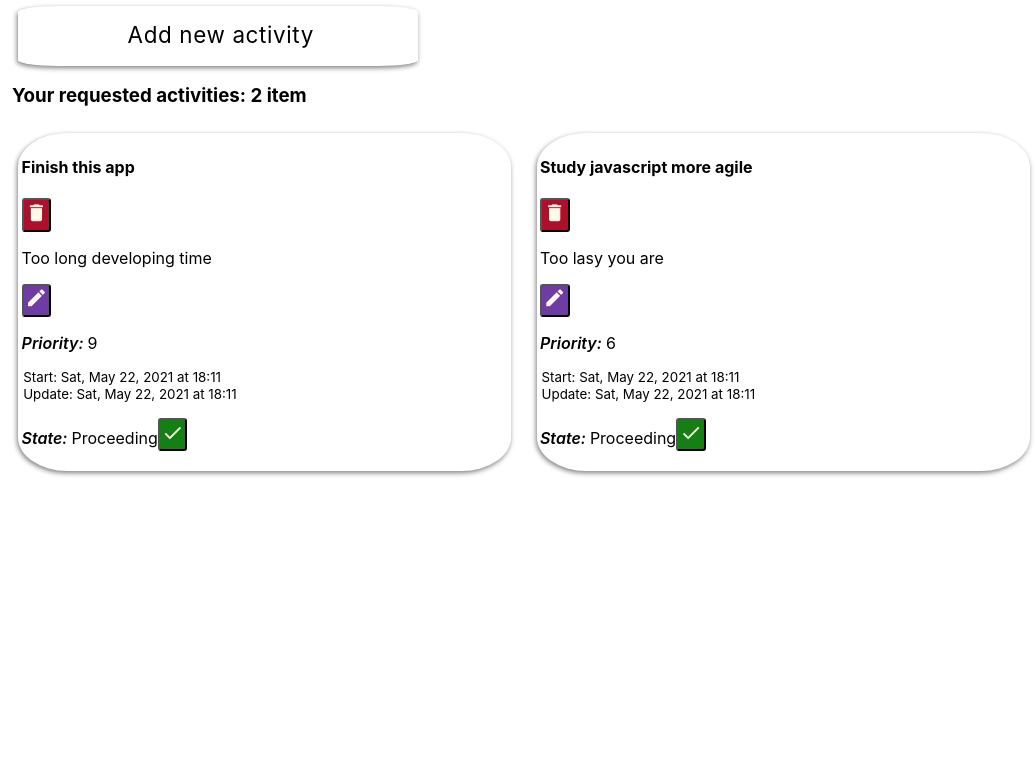
Todo list testing › Todo addition
Expected: the text "State:" is shown 2 times, [22, 428, 72, 448]; [540, 428, 590, 448]
Click the element showing "Add new activity" at (218, 36), box [123, 26, 314, 47]
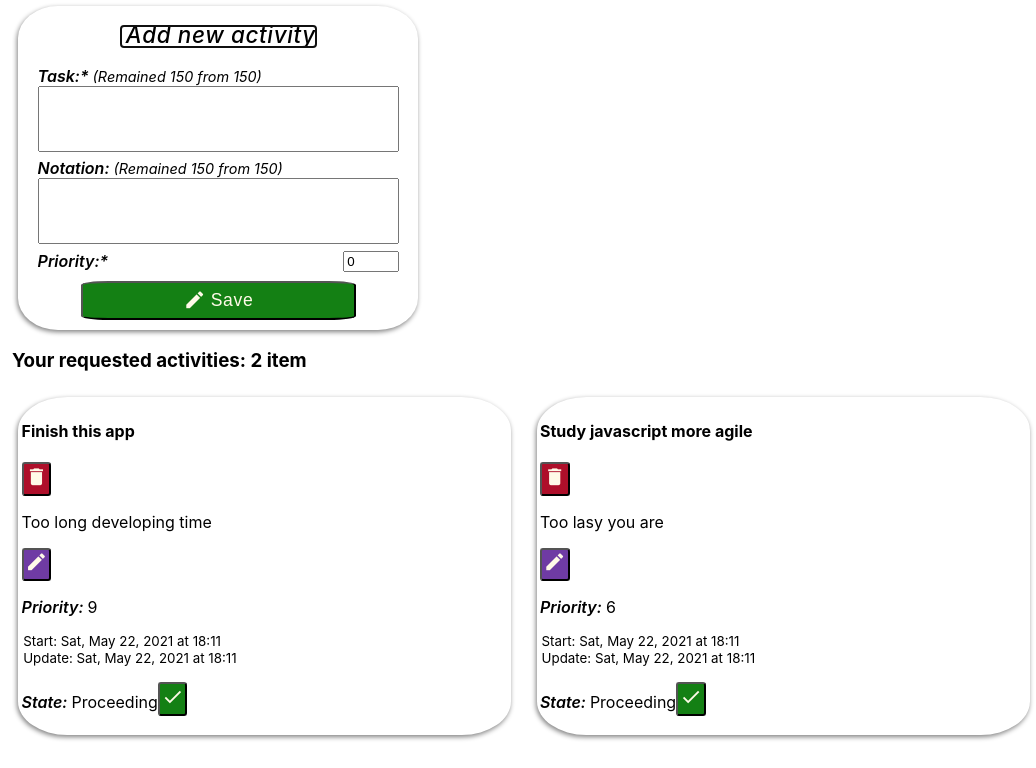
# fill the form,
Type "Finish the testing here!" into the text box labelled "Task:*" at (218, 119), box [38, 86, 399, 152]
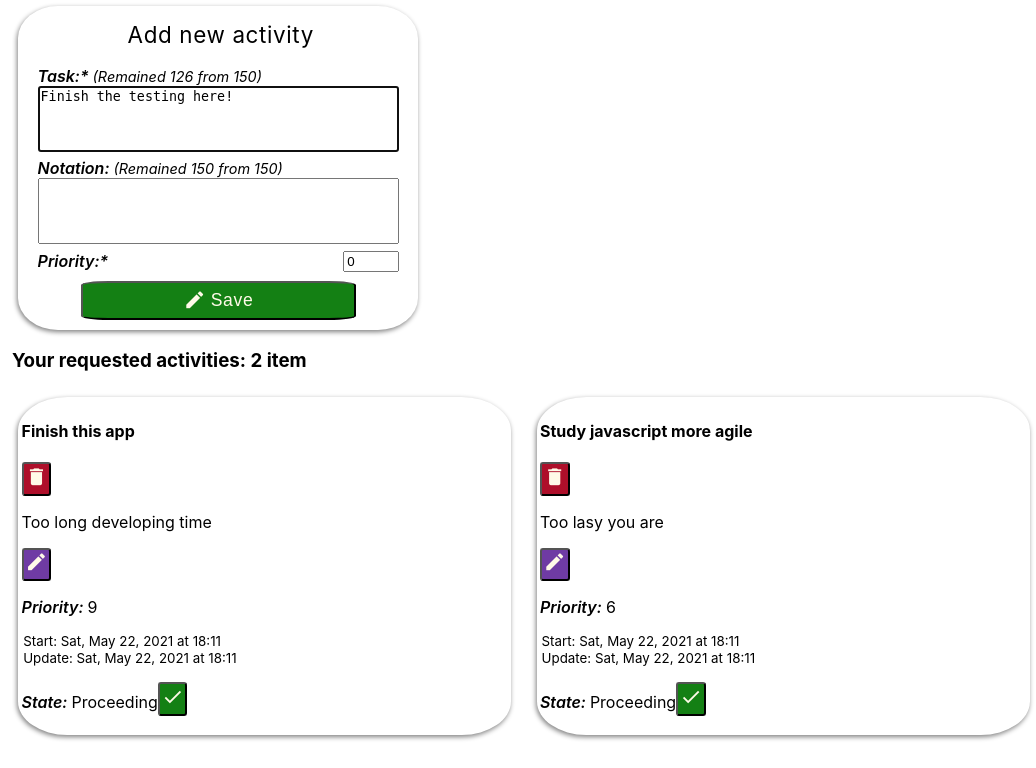
Type "6" into the number field labelled "Priority:*" at (371, 261), box [343, 250, 399, 272]
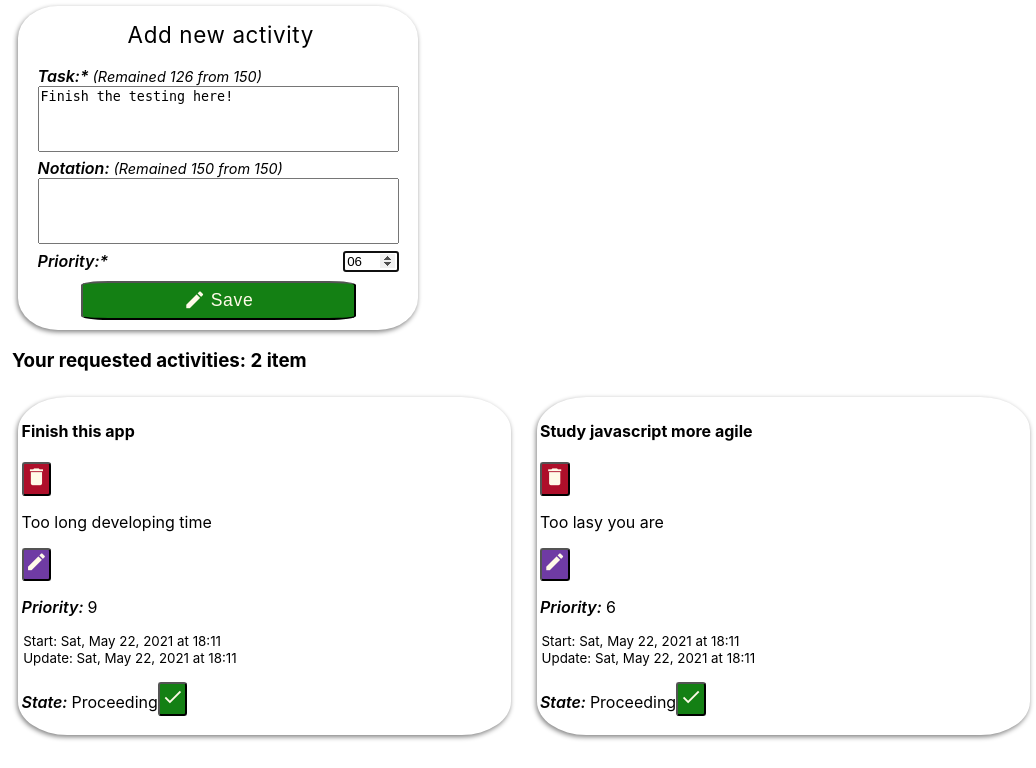
Type "Not far from the finish..." into the text box labelled "Notation:" at (218, 211), box [38, 178, 399, 244]
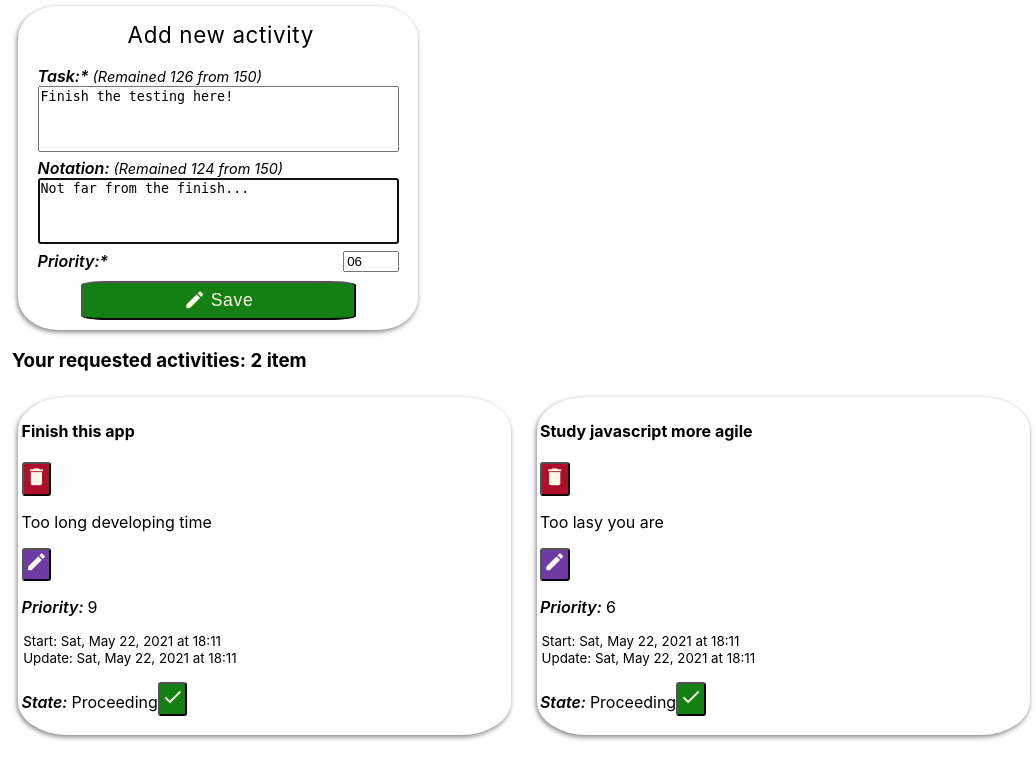
# sending and analyze result, input area dessappeared
Click the button "Save" at (218, 301), box [81, 281, 356, 320]
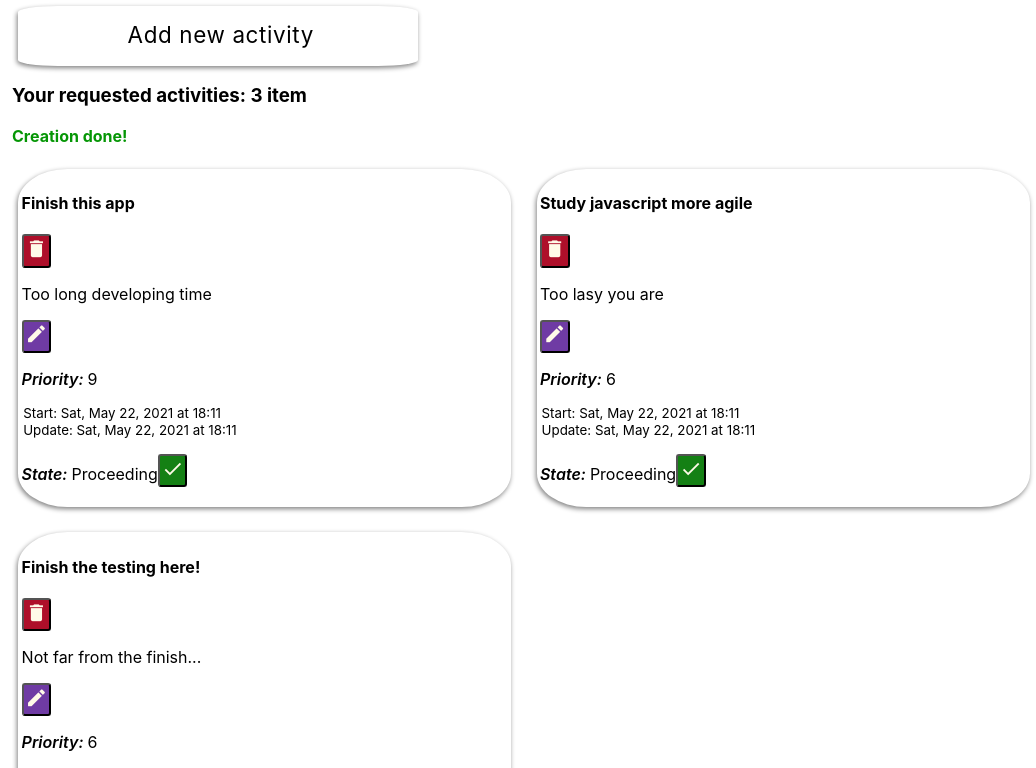
Now the heading "Finish the testing here!" is shown, box [22, 557, 200, 577]
Now the text "Not far from the finish..." is shown, box [22, 647, 201, 667]
Now the label labelled "Task:*" is gone
